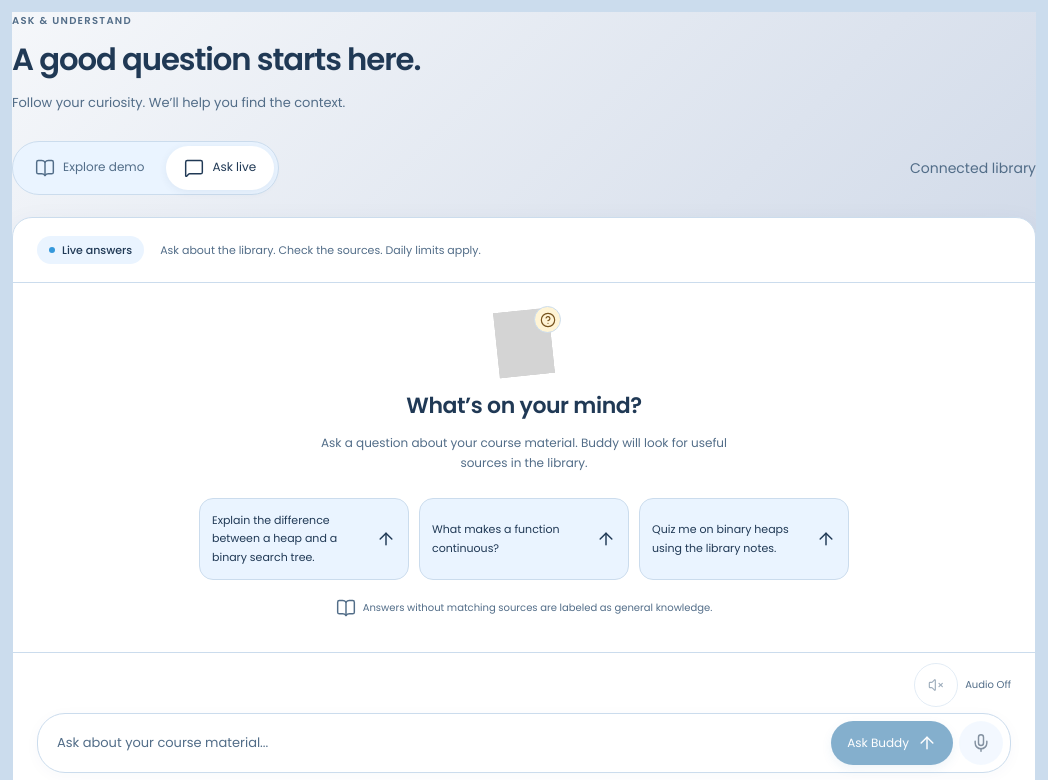
Test: passage indexing notice stays with the answer it applies to
Step 1. Type "Cedar?" into the field named "Your question" → (434, 743), box top-left (45, 722), bottom-right (823, 764)
Then press Enter
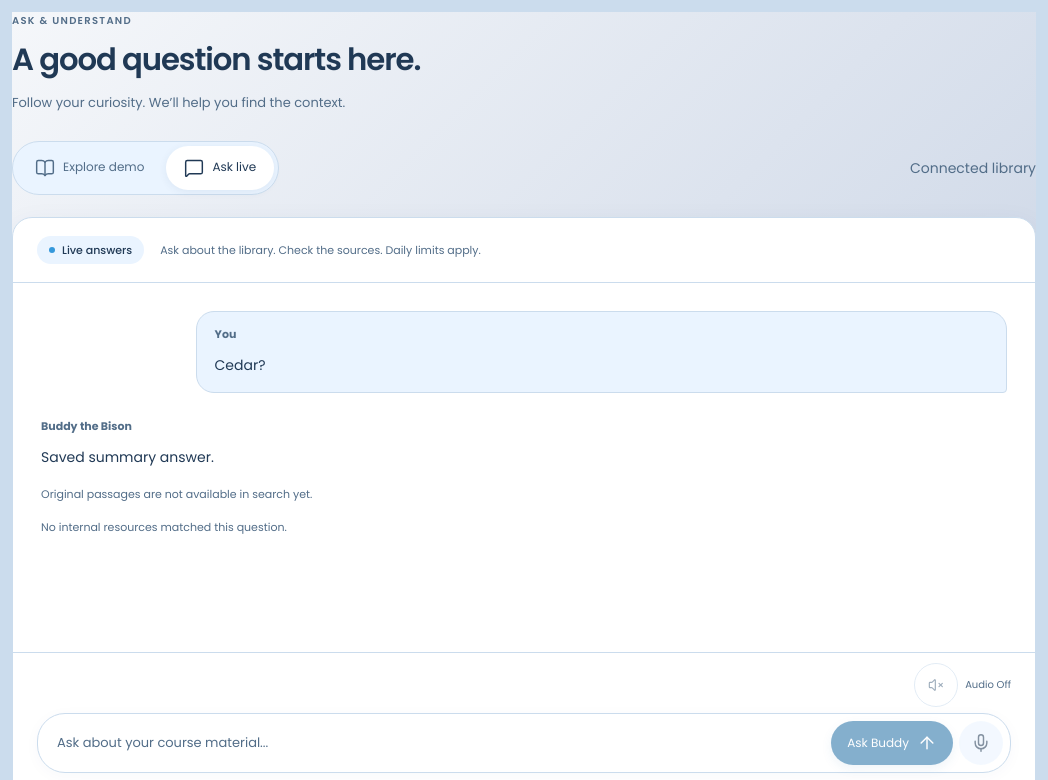
Expected: the text "Original passages are not available in search yet." is shown, top-left (41, 486), bottom-right (312, 502)
Step 2. Type "Next question" into the field named "Your question" → (434, 743), box top-left (45, 722), bottom-right (823, 764)
Then press Enter
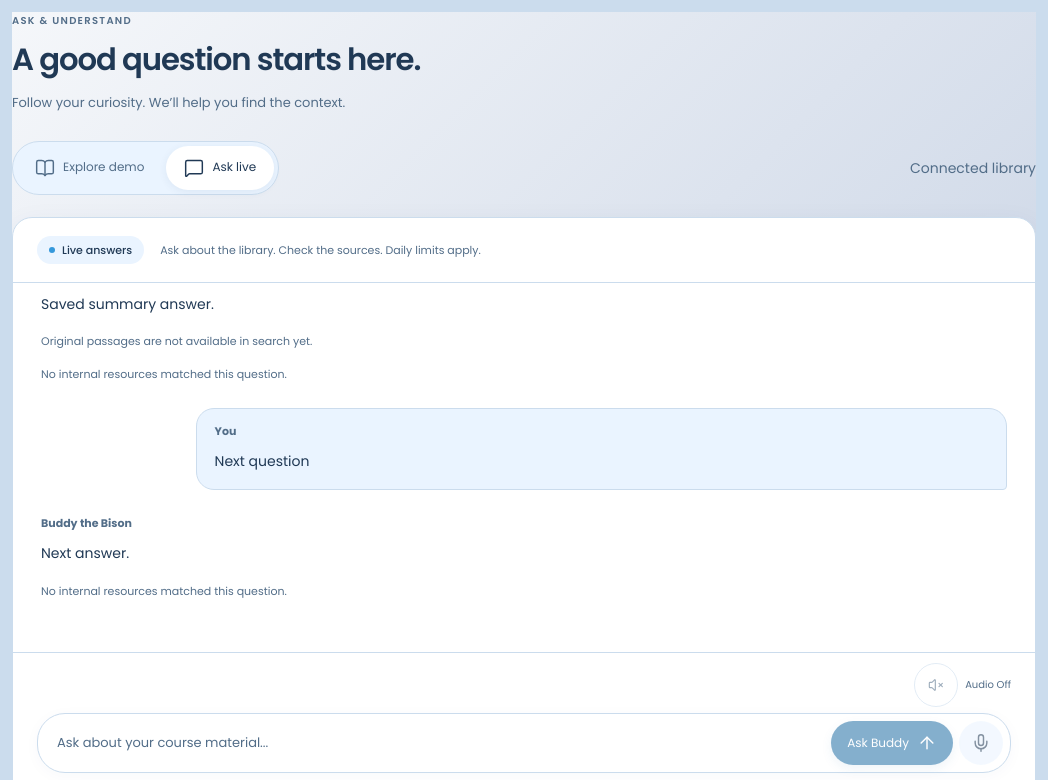
Expected: the element "Answer to: Next question" does not show "Original passages are not available in search yet."
Expected: the text "Next answer." is shown, top-left (41, 543), bottom-right (129, 563)
